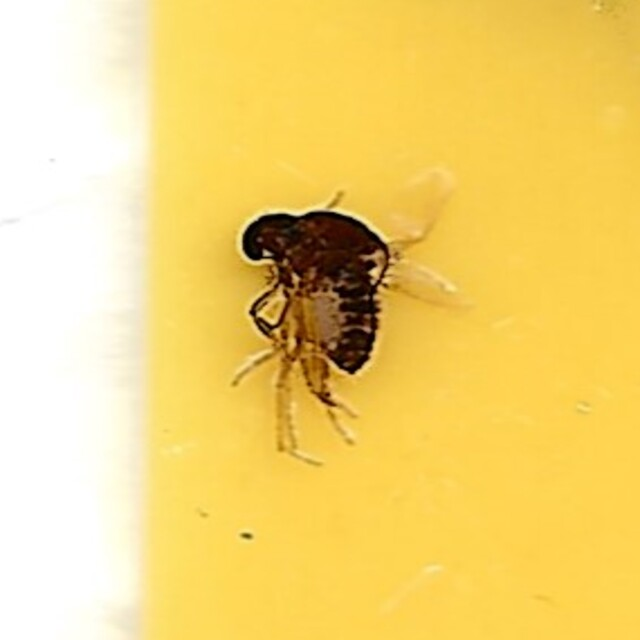Brachycera: (225, 178, 415, 462)
